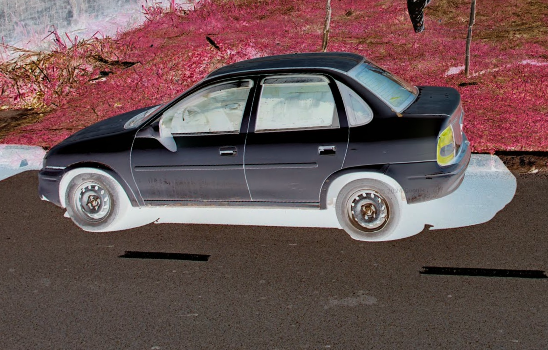car: (38, 53, 475, 242)
